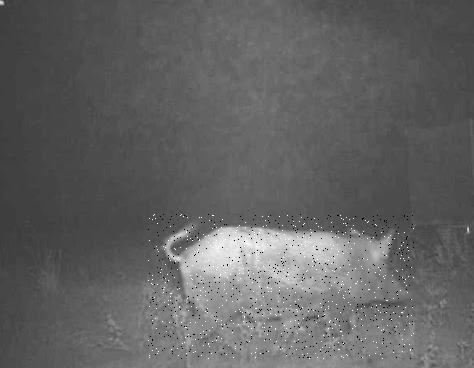Hog: (148, 214, 414, 359)
